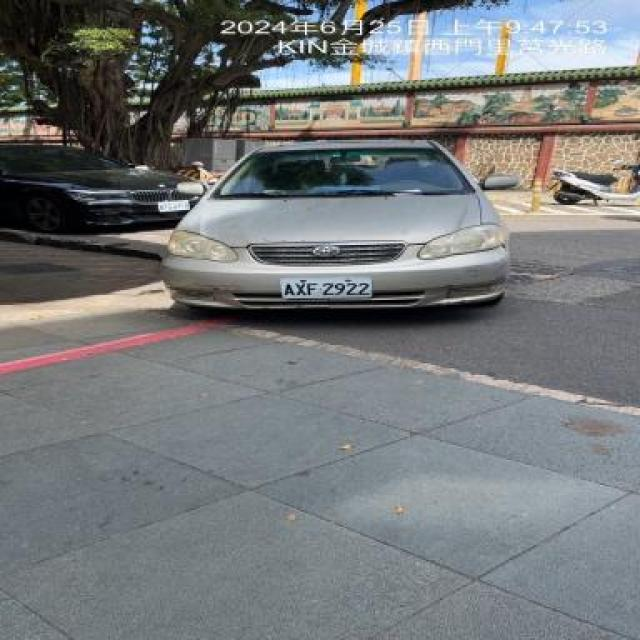illegalparking: (163, 140, 517, 305)
